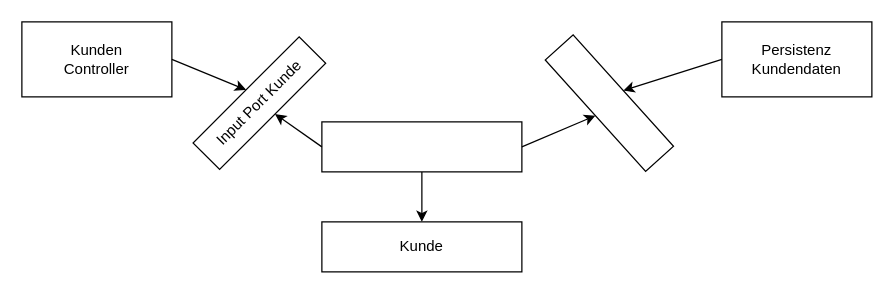
Image size: 894x294. Some labels were removed from this diagram. The centre of each missing label's shape, as x and y in pixels:
"Kundendaten Verwaltung" belongs at pixel 421 146.
"Output Port Persistenz" belongs at pixel 609 102.
